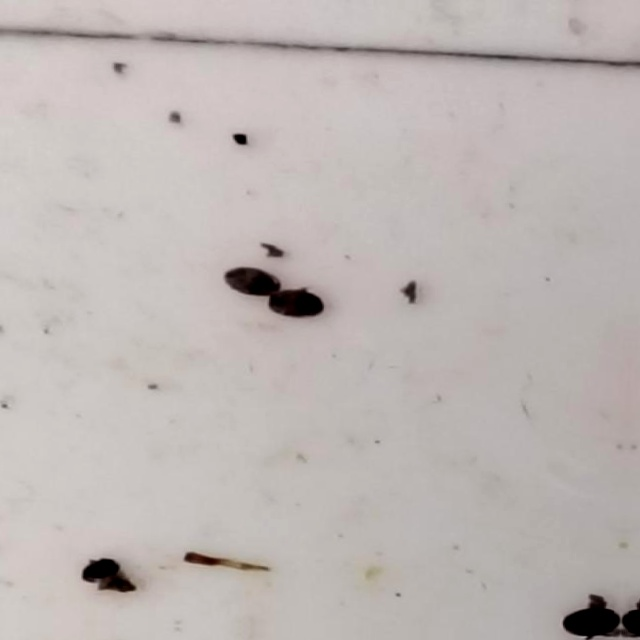varroa: (220, 268, 284, 301), (265, 288, 326, 320), (73, 554, 123, 584)
